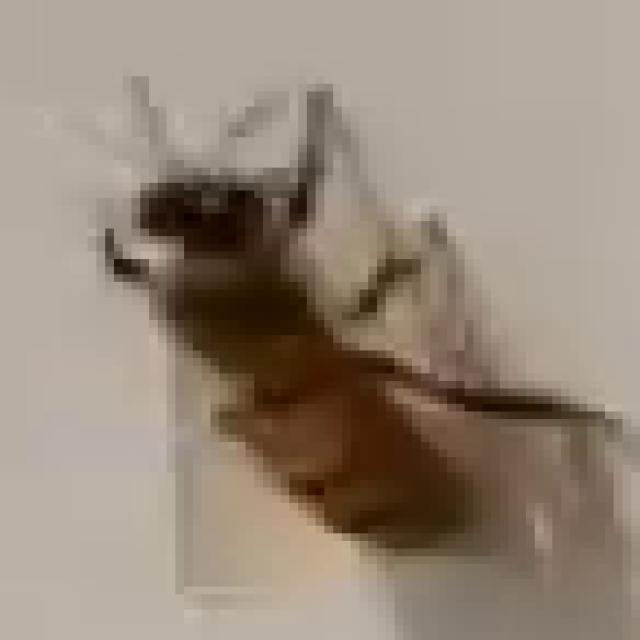honeybee: (103, 122, 549, 548)
